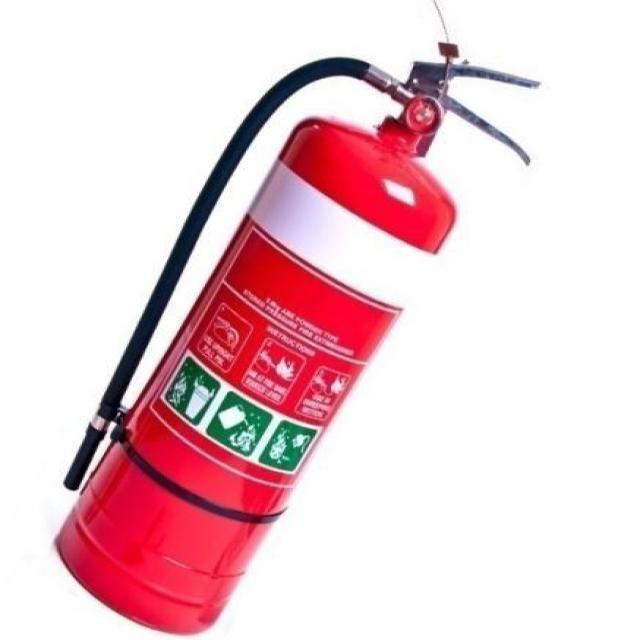fire_extinguisher: (42, 38, 546, 639)
